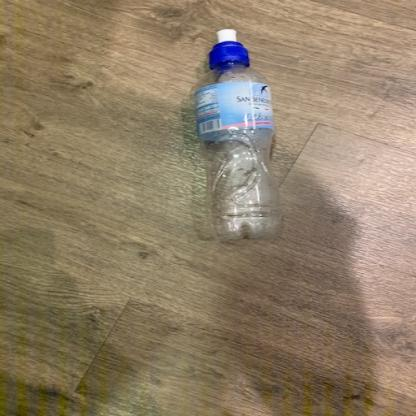trash: (195, 26, 284, 243)
